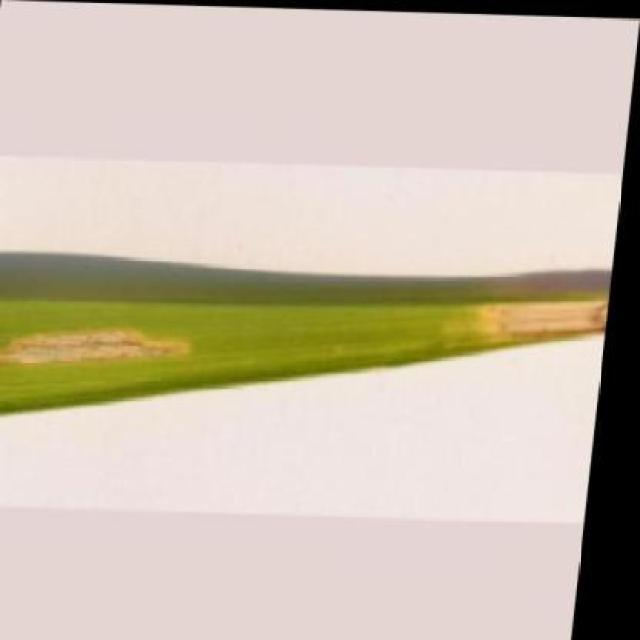Brown_Spot: (0, 275, 615, 435)
